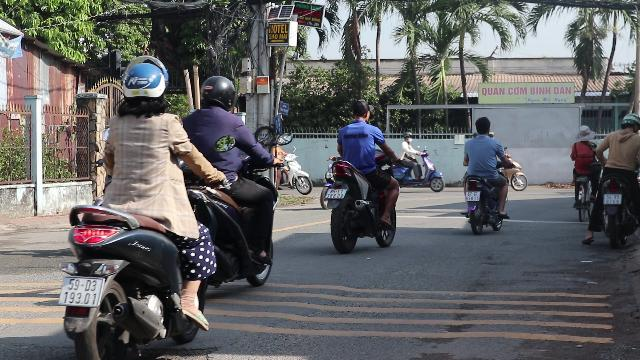helmet: (119, 56, 171, 110), (198, 75, 236, 113), (618, 114, 640, 132)
licenseplate: (59, 277, 102, 307), (326, 188, 346, 198), (604, 194, 622, 204), (465, 192, 479, 200)
motorcyclist: (52, 55, 220, 357), (166, 73, 280, 299), (323, 99, 401, 253), (460, 114, 510, 234), (596, 112, 640, 246)
nohelmet: (348, 100, 372, 122), (472, 116, 492, 136)
